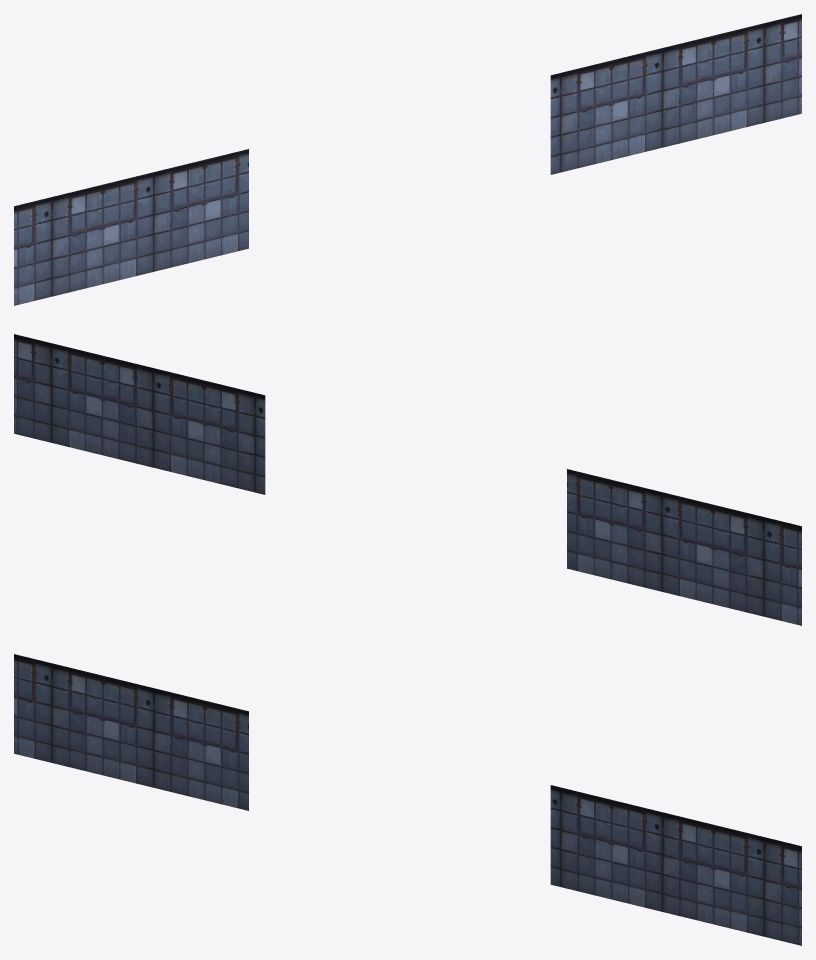
Rendered from buildingb_id_3_windowdarka_dm_0_lev1.glb.
The picture shows the model from 3 angles, top to bottom: view 1: azimuth 30°, elevation 25°; view 2: azimuth 150°, elevation 25°; view 3: azimuth 330°, elevation 25°; orthographic projection.
Visible parts, largest first — view 1: buildingb_id_3_windowdarka_dm_0_lev1; view 2: buildingb_id_3_windowdarka_dm_0_lev1; view 3: buildingb_id_3_windowdarka_dm_0_lev1.
Boxes of the visible parts, x1,y1,x2,y2 form: buildingb_id_3_windowdarka_dm_0_lev1: [14, 14, 801, 305]; buildingb_id_3_windowdarka_dm_0_lev1: [14, 334, 801, 625]; buildingb_id_3_windowdarka_dm_0_lev1: [14, 654, 801, 945].
Bounding box in the file's own units: 5.11 × 0.6182 × 3.65e-07.
Materials: 1 (1 with a texture image).
